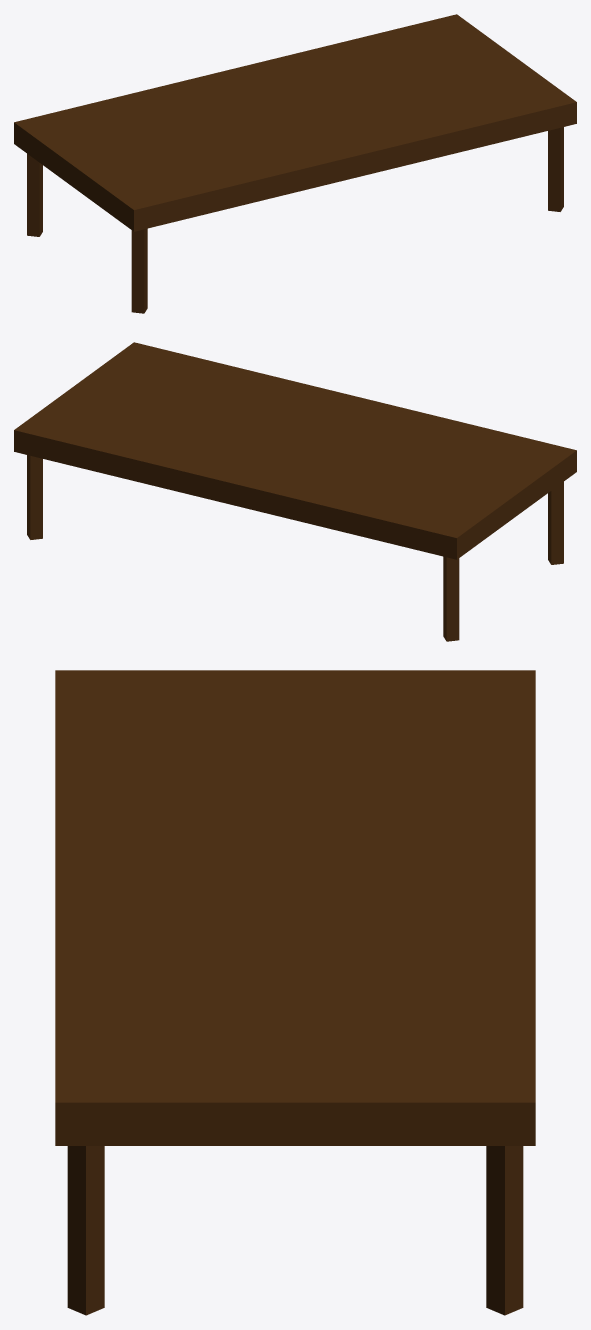
File: Dining Table.fbx
3 views of the same model, one above another, from view 1: azimuth 30°, elevation 25°; view 2: azimuth 150°, elevation 25°; view 3: azimuth 270°, elevation 25° (orthographic). The views are drawn at different scales.
Visible parts, largest first — view 1: Table; view 2: Table; view 3: Table.
Part boxes in pixels (x1=…): Table: x1=14, y1=14, x2=576, y2=313; Table: x1=14, y1=342, x2=576, y2=641; Table: x1=55, y1=670, x2=535, y2=1315.
Bounding box in the file's own units: 429 × 202 × 101.
